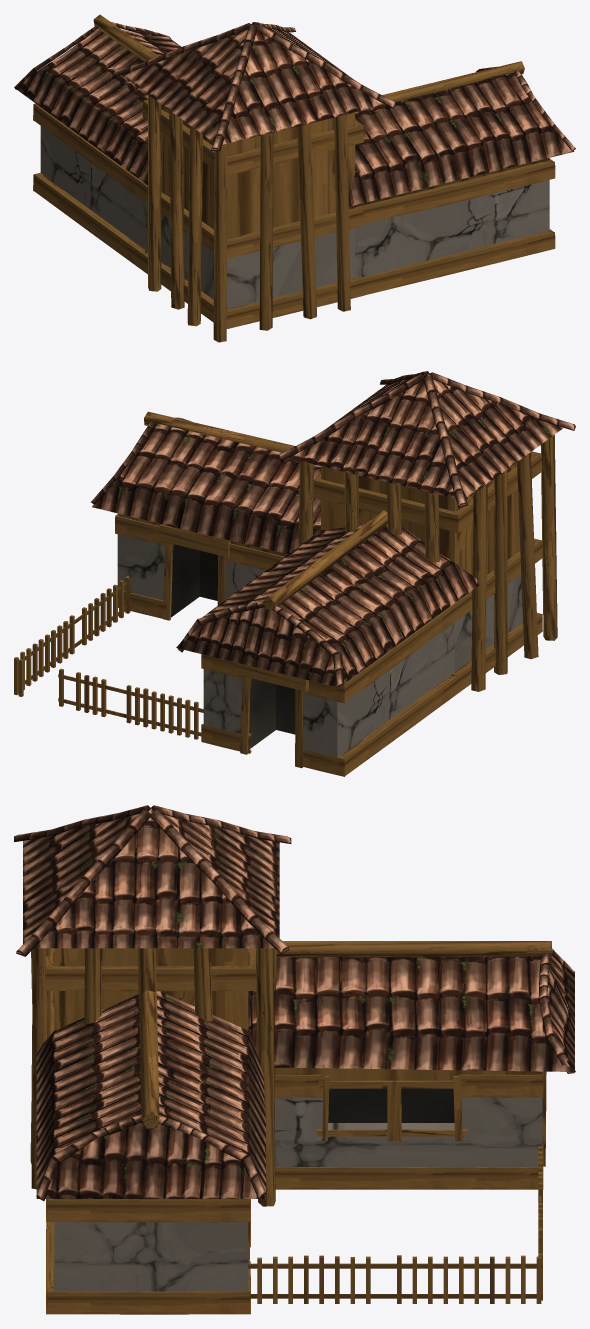
Rendered from largeHouse_geo.fbx.
3 views of the same model, one above another, from view 1: azimuth 30°, elevation 25°; view 2: azimuth 150°, elevation 25°; view 3: azimuth 270°, elevation 25° (orthographic). The views are drawn at different scales.
Parts seen in each view (by area): view 1: largeHouse_geo; view 2: largeHouse_geo; view 3: largeHouse_geo.
Boxes of the visible parts, x1=… form: largeHouse_geo: x1=14, y1=14, x2=575, y2=342; largeHouse_geo: x1=14, y1=371, x2=575, y2=776; largeHouse_geo: x1=14, y1=805, x2=575, y2=1314.
Bounding box in the file's own units: 13.37 × 9.17 × 13.35.
